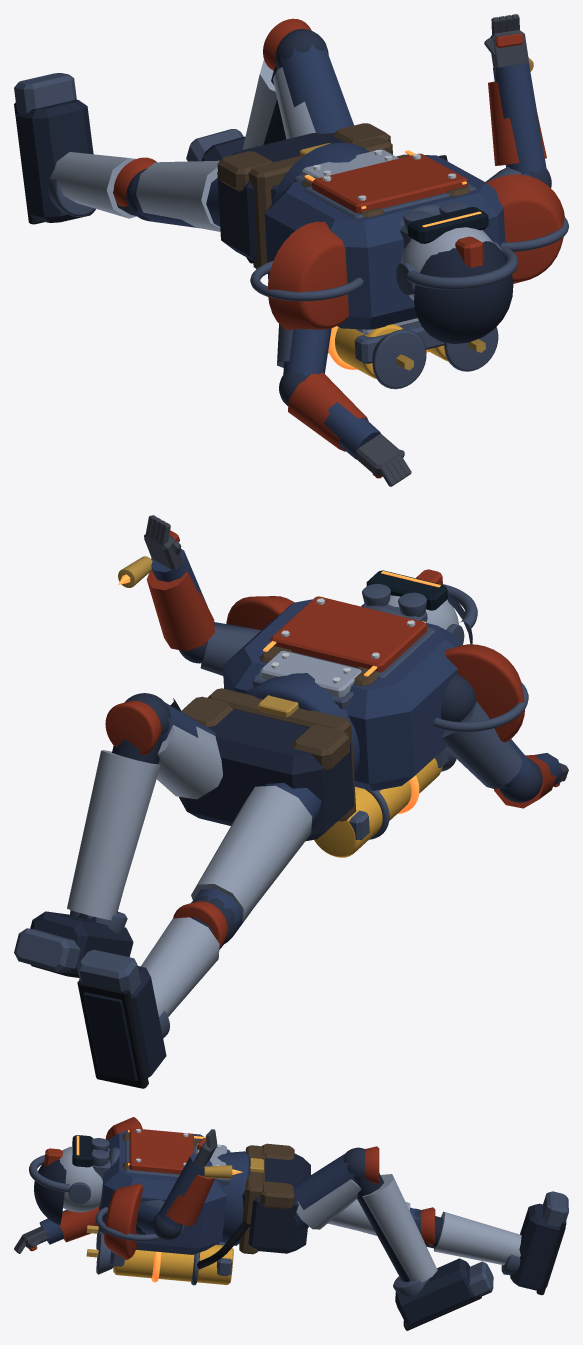
Rendered from hero_ember_downed.glb.
3 views of the same model, one above another, from view 1: azimuth 30°, elevation 25°; view 2: azimuth 150°, elevation 25°; view 3: azimuth 270°, elevation 25° (orthographic). The views are drawn at different scales.
Parts seen in each view (by area): view 1: hero_ember_downed_chest, hero_ember_downed_pauldron-1, hero_ember_downed_hood, hero_ember_downed_boot_l, hero_ember_downed_chest_plate_face, hero_ember_downed_pauldron1, hero_ember_downed_thigh_plate_l, hero_ember_downed_pelvis, hero_ember_downed_thigh_r, hero_ember_downed_forearm_r, hero_ember_downed_greave_l, hero_ember_downed_bracer_l (+32 smaller); view 2: hero_ember_downed_chest, hero_ember_downed_pelvis, hero_ember_downed_greave_r, hero_ember_downed_thigh_plate_l, hero_ember_downed_chest_plate_face, hero_ember_downed_boot_l, hero_ember_downed_greave_l, hero_ember_downed_pauldron-1, hero_ember_downed_thigh_plate_r, hero_ember_downed_bracer_r, hero_ember_downed_bicep_plate_l, hero_ember_downed_tank-1 (+23 smaller); view 3: hero_ember_downed_chest, hero_ember_downed_pelvis, hero_ember_downed_greave_r, hero_ember_downed_greave_l, hero_ember_downed_boot_r, hero_ember_downed_boot_l, hero_ember_downed_tank1, hero_ember_downed_chest_plate_face, hero_ember_downed_pauldron1, hero_ember_downed_thigh_r, hero_ember_downed_abdomen, hero_ember_downed_thigh_plate_r (+34 smaller).
Boxes of the visible parts, bbox=[...] form: hero_ember_downed_chest: bbox=[264, 154, 505, 329]; hero_ember_downed_pauldron-1: bbox=[268, 221, 348, 330]; hero_ember_downed_hood: bbox=[414, 241, 513, 343]; hero_ember_downed_boot_l: bbox=[16, 99, 95, 222]; hero_ember_downed_chest_plate_face: bbox=[312, 153, 467, 213]; hero_ember_downed_pauldron1: bbox=[486, 174, 564, 283]; hero_ember_downed_thigh_plate_l: bbox=[136, 160, 220, 231]; hero_ember_downed_pelvis: bbox=[217, 133, 345, 260]; hero_ember_downed_thigh_r: bbox=[276, 43, 353, 133]; hero_ember_downed_forearm_r: bbox=[493, 63, 546, 173]; hero_ember_downed_greave_l: bbox=[50, 152, 136, 218]; hero_ember_downed_bracer_l: bbox=[288, 372, 368, 451]; hero_ember_downed_chest: bbox=[223, 599, 461, 790]; hero_ember_downed_pelvis: bbox=[179, 708, 354, 840]; hero_ember_downed_greave_r: bbox=[67, 750, 160, 920]; hero_ember_downed_thigh_plate_l: bbox=[191, 785, 312, 922]; hero_ember_downed_chest_plate_face: bbox=[270, 596, 426, 672]; hero_ember_downed_boot_l: bbox=[83, 966, 166, 1080]; hero_ember_downed_greave_l: bbox=[141, 917, 219, 1016]; hero_ember_downed_pauldron-1: bbox=[444, 644, 524, 742]; hero_ember_downed_thigh_plate_r: bbox=[156, 725, 222, 799]; hero_ember_downed_bracer_r: bbox=[146, 571, 214, 651]; hero_ember_downed_bicep_plate_l: bbox=[441, 700, 522, 789]; hero_ember_downed_tank-1: bbox=[314, 758, 442, 857]; hero_ember_downed_chest: bbox=[99, 1130, 226, 1254]; hero_ember_downed_pelvis: bbox=[239, 1153, 310, 1253]; hero_ember_downed_greave_r: bbox=[362, 1174, 437, 1282]; hero_ember_downed_greave_l: bbox=[434, 1211, 521, 1265]; hero_ember_downed_boot_r: bbox=[395, 1258, 473, 1325]; hero_ember_downed_boot_l: bbox=[510, 1203, 565, 1290]; hero_ember_downed_tank1: bbox=[113, 1244, 233, 1284]; hero_ember_downed_chest_plate_face: bbox=[129, 1128, 193, 1174]; hero_ember_downed_pauldron1: bbox=[104, 1183, 143, 1259]; hero_ember_downed_thigh_r: bbox=[293, 1154, 358, 1229]; hero_ember_downed_abdomen: bbox=[217, 1151, 250, 1245]; hero_ember_downed_thigh_plate_r: bbox=[296, 1179, 361, 1229].
Bounding box in the file's own units: 0.9168 × 0.8845 × 1.98.
